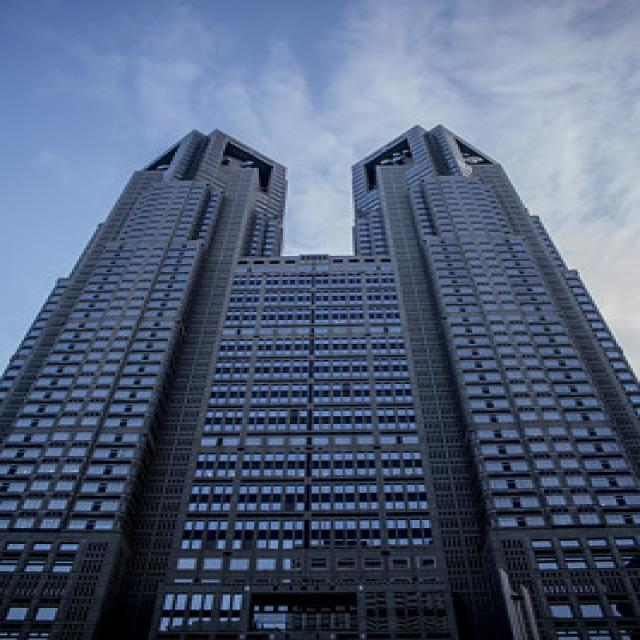Normal_building: (5, 96, 640, 640)
